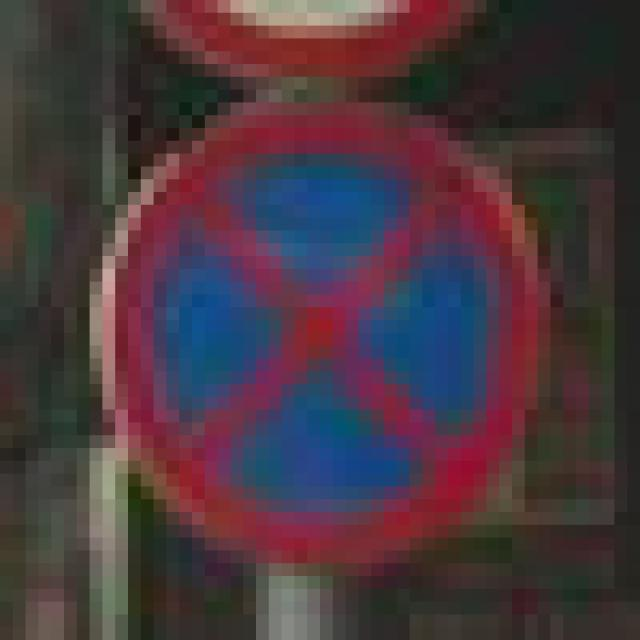no_parking: (76, 77, 538, 550)
